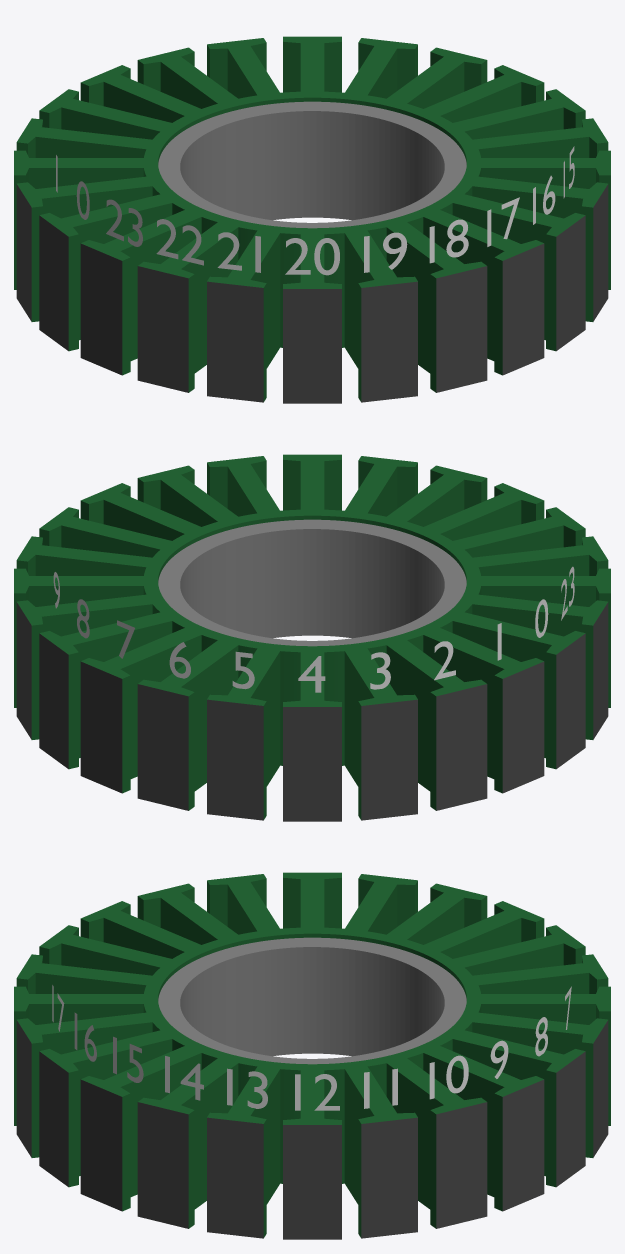
File: stator.glb
The picture shows the model from 3 angles, top to bottom: view 1: azimuth 30°, elevation 25°; view 2: azimuth 150°, elevation 25°; view 3: azimuth 270°, elevation 25°; orthographic projection.
Parts seen in each view (by area): view 1: stator; view 2: stator; view 3: stator.
Boxes of the visible parts, x1=… form: stator: x1=14, y1=36, x2=610, y2=403; stator: x1=14, y1=454, x2=610, y2=821; stator: x1=14, y1=872, x2=610, y2=1239.
Bounding box in the file's own units: 40.6 × 11.36 × 40.6.
